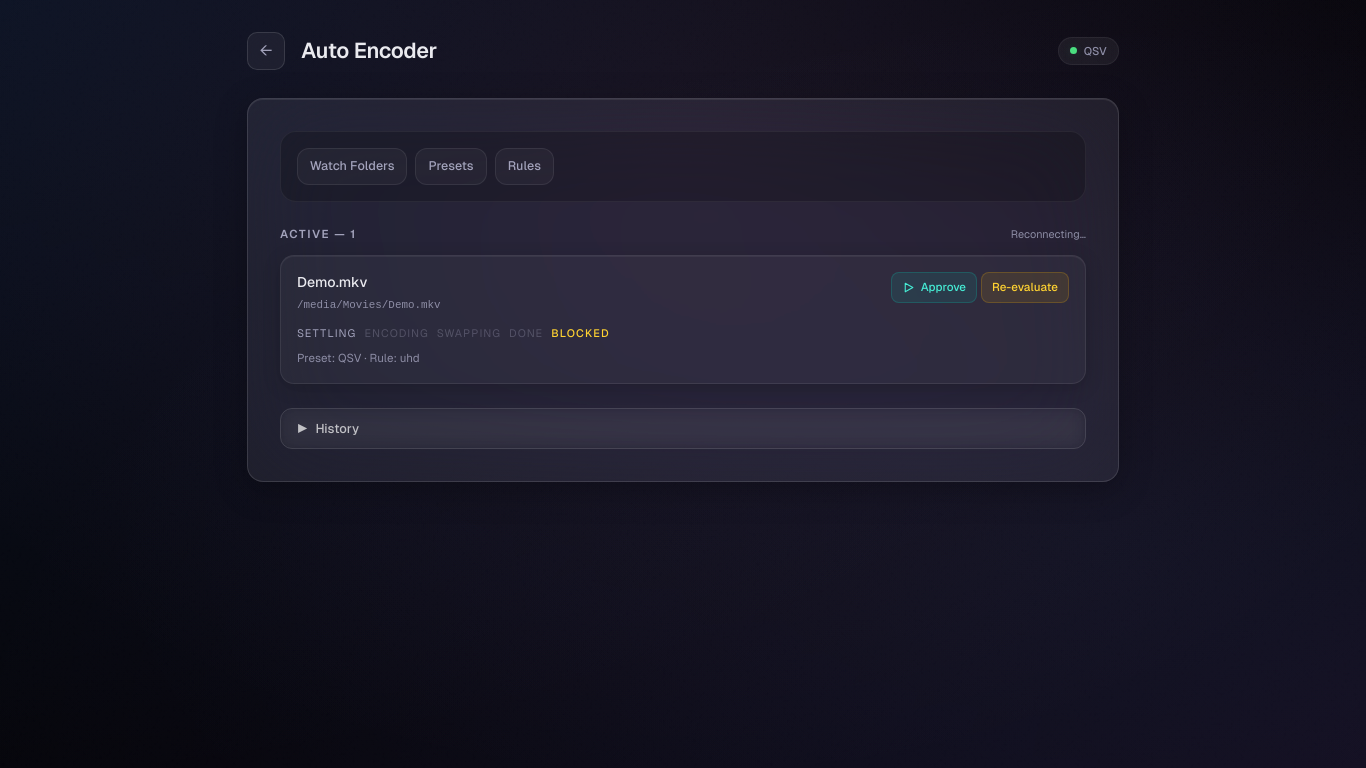
Test: EncoderPanel › moves a recovered blocked job into history without waiting for SSE
Click the button with aria-label "Re-evaluate file" at [1025, 288], box [981,272,1069,303]
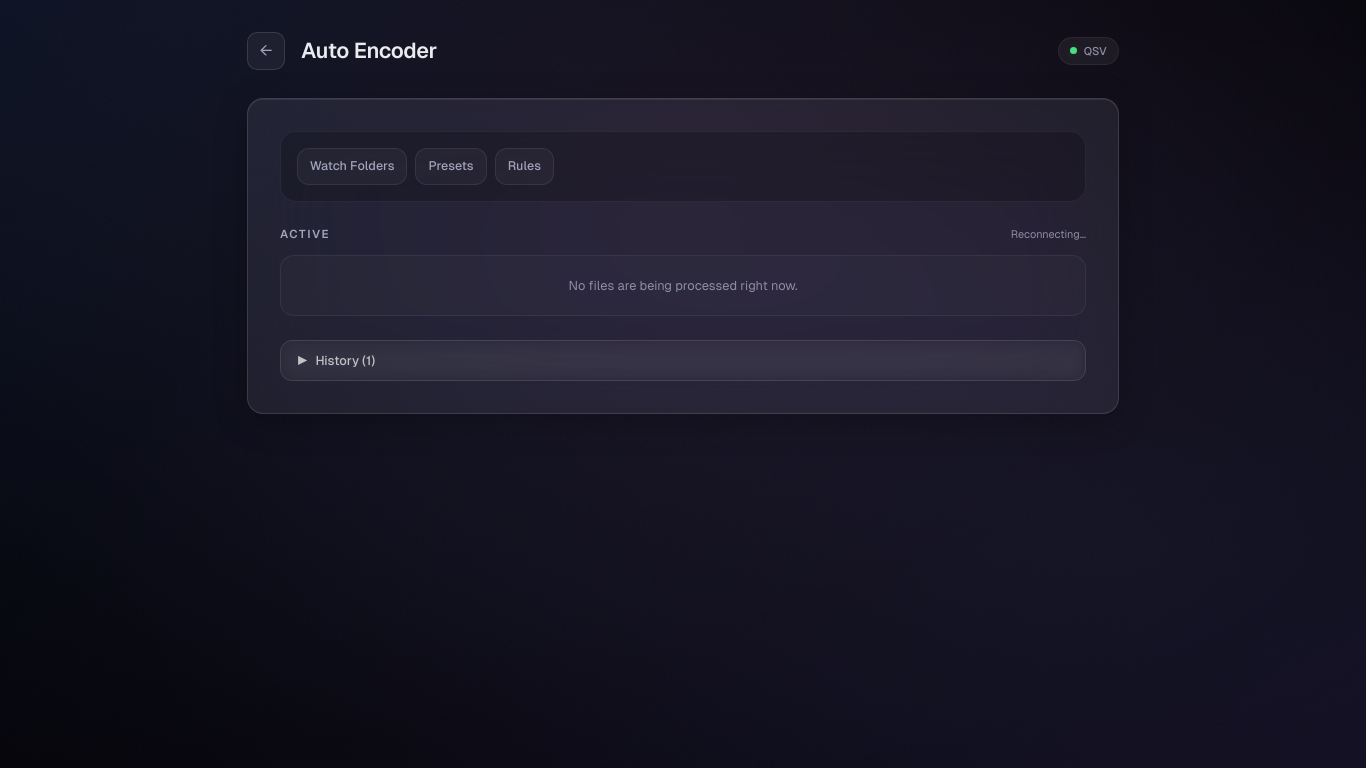
Now the heading "Demo.mkv" is gone
Click the button "▶ History (1)" at [339, 361], box [280,340,1086,381]
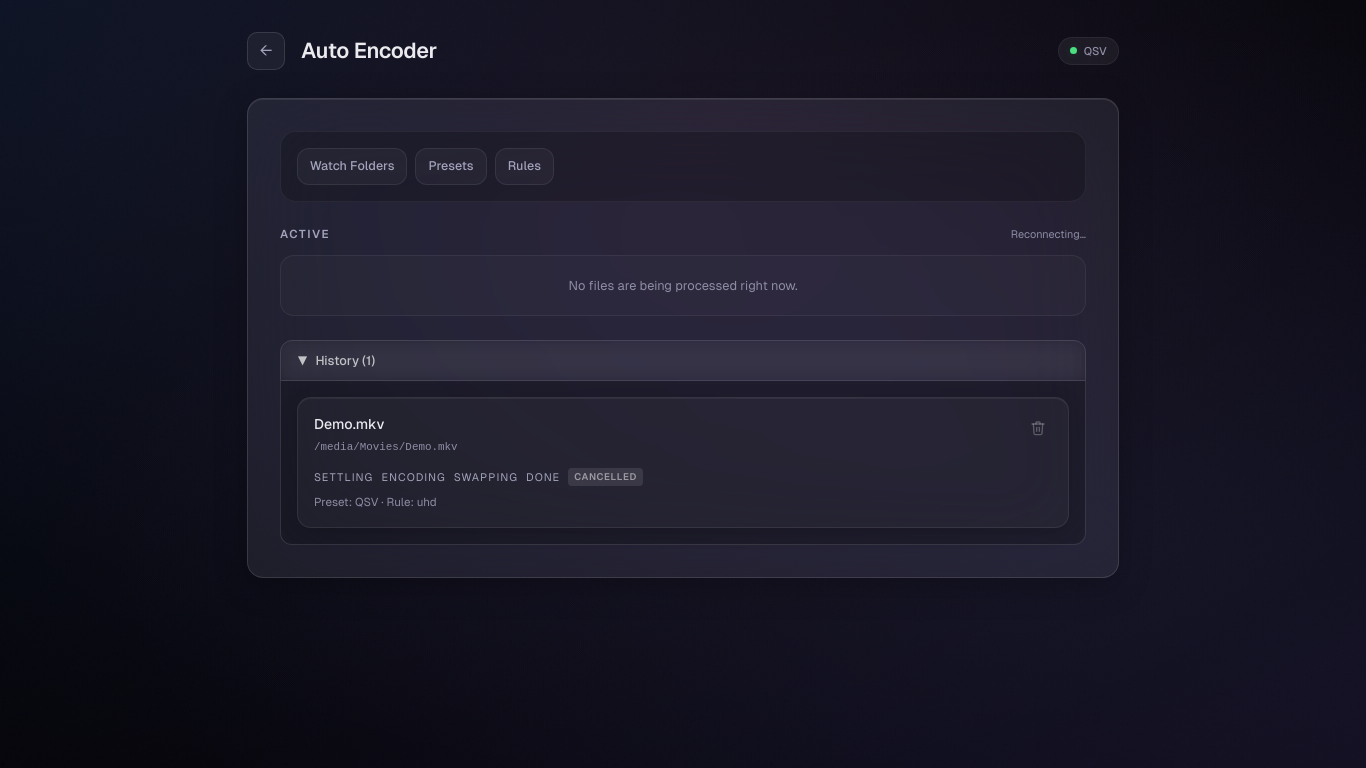
Now the heading "Demo.mkv" is shown, box [314,416,384,432]
Now the text "Cancelled" is shown, box [568,468,643,486]
